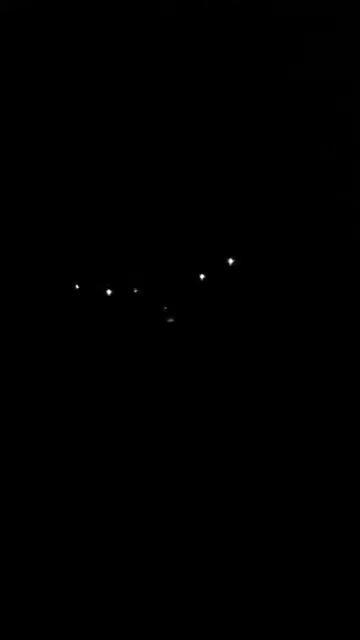Plane: (53, 231, 252, 350)
